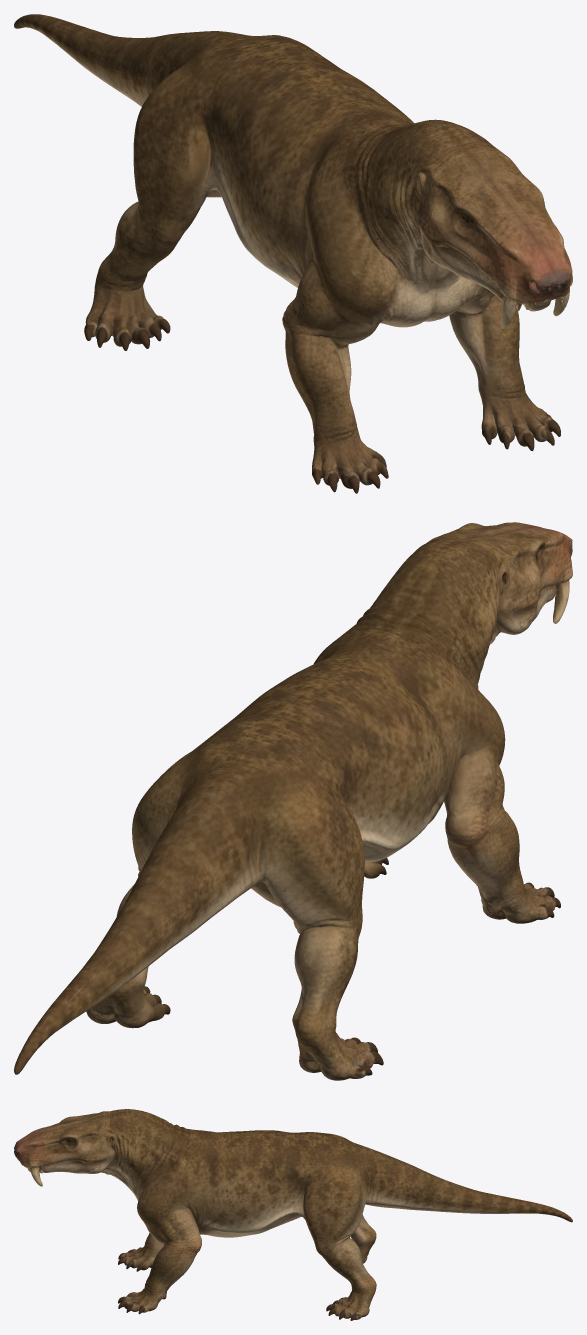
3 views of the same model, one above another, from view 1: azimuth 30°, elevation 25°; view 2: azimuth 150°, elevation 25°; view 3: azimuth 270°, elevation 25° (orthographic). The views are drawn at different scales.
Parts seen in each view (by area): view 1: Authored orientation; view 2: Authored orientation; view 3: Authored orientation.
Part boxes in pixels (box(x1,y1,x2,y2)): Authored orientation: box(14, 14, 572, 493); Authored orientation: box(14, 522, 572, 1080); Authored orientation: box(14, 1109, 572, 1320).
Size of the model in its own units: 1.07 by 1.21 by 3.52.
1 material, 1 textured.
